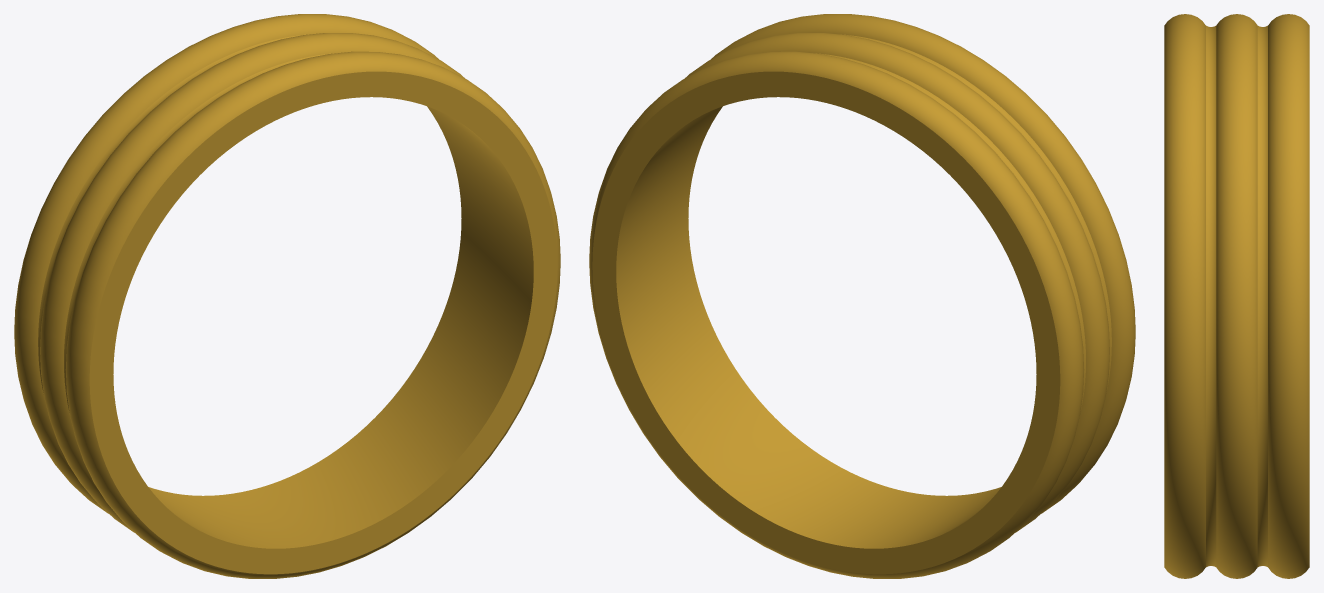
Rendered from Doja.glb.
3 views of the same model, side by side, from view 1: azimuth 30°, elevation 25°; view 2: azimuth 150°, elevation 25°; view 3: azimuth 270°, elevation 25° (orthographic).
Parts seen in each view (by area): view 1: Mesh_0.001; view 2: Mesh_0.001; view 3: Mesh_0.001.
Part boxes in pixels (bbox=[...]): Mesh_0.001: bbox=[14, 14, 560, 578]; Mesh_0.001: bbox=[589, 14, 1135, 578]; Mesh_0.001: bbox=[1164, 14, 1309, 578].
Size of the model in its own units: 1.87 by 1.87 by 0.4801.
